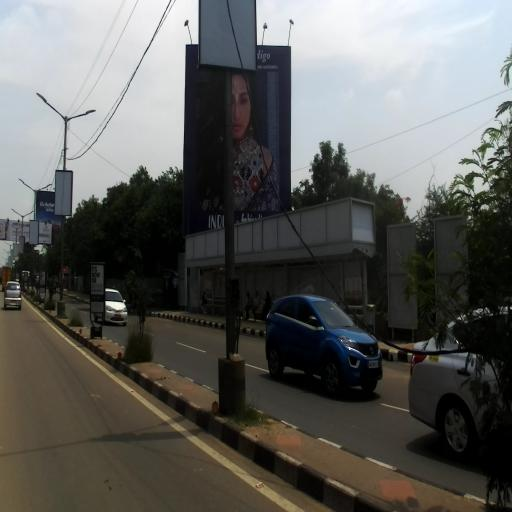street_light_0: (36, 93, 69, 121), (64, 110, 95, 126), (18, 179, 36, 192), (34, 184, 52, 192), (11, 209, 24, 218), (22, 211, 34, 219), (8, 222, 18, 230), (16, 225, 24, 230), (3, 248, 9, 254), (5, 242, 11, 246), (1, 256, 7, 260)
